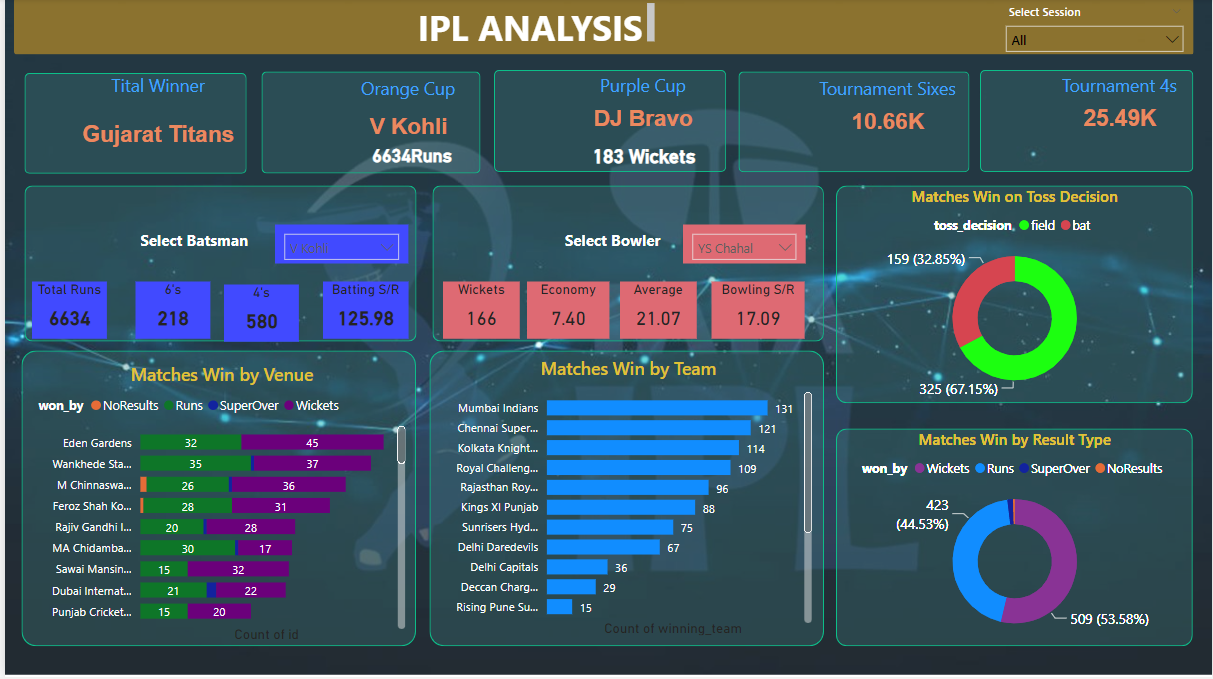

The page's visual inventory and layout, read from the dashboard file:
{"tool":"powerbi","page":{"name":"Page 1","canvas":[1280,720],"ordinal":0},"visuals":[{"type":"shape","box":[20.7,198.7,415,165],"z":0},{"type":"textbox","box":[138.3,240,133.5,41.3],"z":1000},{"type":"shape","box":[271.8,77.9,232.1,108.1],"z":2000},{"type":"shape","box":[20.7,79.5,235.2,106.5],"z":3000},{"type":"shape","box":[9.5,0,1250,60],"z":4000},{"type":"textbox","box":[432.8,0,260.8,54.8],"z":5000},{"type":"card","title":"Tital Winner","fields":{"Values":["ipl_matches_2008_2022.Title Winner"]},"box":[68.3,79.5,187.5,104.9],"z":6000},{"type":"slicer","fields":{"Values":["Calendar Table.Year"]},"box":[1050.6,1.6,208.2,58.8],"z":7000},{"type":"shape","box":[517.8,75.6,245.7,107.7],"z":8000},{"type":"shape","box":[777.2,77.9,244.8,106.5],"z":9000},{"type":"shape","box":[1033.1,76.3,225.7,108.1],"z":10000},{"type":"card","title":"Orange Cup","fields":{"Values":["ipl_ball_by_ball_2008_2022.batter"]},"box":[349.6,83.2,155,83.2],"z":11000},{"type":"card","title":"Purple Cup","fields":{"Values":["ipl_ball_by_ball_2008_2022.bowler"]},"box":[587.7,79.4,175.7,71.8],"z":12000},{"type":"card","title":"Orange Cup","fields":{"Values":["ipl_ball_by_ball_2008_2022.Batter Runs"]},"box":[374.2,145.5,115.3,41.6],"z":13000},{"type":"card","title":"Tital Winner","fields":{"Values":["ipl_ball_by_ball_2008_2022.Bowler Wickets"]},"box":[587.7,145.5,177.6,41.6],"z":14000},{"type":"card","title":"Tournament Sixes","fields":{"Values":["ipl_ball_by_ball_2008_2022.batsman_run"]},"box":[846.6,83.2,175.7,71.8],"z":15000},{"type":"card","title":"Tournament 4s","fields":{"Values":["ipl_ball_by_ball_2008_2022.batsman_run"]},"box":[1103,79.5,155.8,71.5],"z":16000},{"type":"shape","box":[453,198.7,414.8,165.3],"z":17000},{"type":"slicer","fields":{"Values":["ipl_ball_by_ball_2008_2022.batter"]},"box":[286.1,240,141.5,41.3],"z":18000},{"type":"card","title":"Total Runs","fields":{"Values":["ipl_ball_by_ball_2008_2022.batsman_run"]},"box":[28.6,300.4,79.5,60.4],"z":19000},{"type":"card","title":"6''s","fields":{"Values":["ipl_ball_by_ball_2008_2022.batsman_run"]},"box":[138.3,300.4,79.5,60.4],"z":20000},{"type":"card","title":"4''s","fields":{"Values":["ipl_ball_by_ball_2008_2022.batsman_run"]},"box":[232.1,303.6,79.5,60.4],"z":21000},{"type":"card","title":"Batting S/R","fields":{"Values":["ipl_ball_by_ball_2008_2022.Strike Rate for Batsman"]},"box":[337,300.4,90.6,60.4],"z":22000},{"type":"slicer","fields":{"Values":["ipl_ball_by_ball_2008_2022.bowler"]},"box":[718.4,240,130.3,41.3],"z":23000},{"type":"card","title":"Wickets","fields":{"Values":["ipl_ball_by_ball_2008_2022.iswicket_delivery"]},"box":[464.1,300.4,81.1,60.4],"z":24000},{"type":"card","title":"Economy","fields":{"Values":["ipl_ball_by_ball_2008_2022.Economy"]},"box":[553.1,300.4,87.4,60.4],"z":25000},{"type":"card","title":"Average","fields":{"Values":["ipl_ball_by_ball_2008_2022.Average by Bowler"]},"box":[651.7,300.4,81.1,60.4],"z":26000},{"type":"card","title":"Bowling S/R","fields":{"Values":["ipl_ball_by_ball_2008_2022.Bowling SR"]},"box":[748.6,300.4,98.5,60.4],"z":27000},{"type":"textbox","box":[588.1,240,130.3,41.3],"z":28000},{"type":"shape","box":[880.5,198.7,378.3,230.5],"z":29000},{"type":"donutChart","title":"Matches Win on Toss Decision","fields":{"Y":["ipl_matches_2008_2022.Matches Win on Toss Decision"],"Category":["ipl_matches_2008_2022.toss_decision"]},"box":[880.5,198.7,378.3,230.5],"z":30000},{"type":"donutChart","title":"Matches Win on Toss Decision","fields":{"Y":["ipl_matches_2008_2022.Matches Win on Toss Decision"],"Category":["ipl_matches_2008_2022.toss_decision"]},"box":[880.5,198.7,378.3,230.5],"z":31000},{"type":"shape","box":[880.5,456.2,378.3,230.5],"z":32000},{"type":"donutChart","title":"Matches Win by Result Type","fields":{"Y":["ipl_matches_2008_2022.id"],"Category":["ipl_matches_2008_2022.won_by"]},"box":[880.5,456.2,378.3,230.5],"z":33000},{"type":"donutChart","title":"Matches Win by Result Type","fields":{"Y":["ipl_matches_2008_2022.id"],"Category":["ipl_matches_2008_2022.won_by"]},"box":[880.5,456.2,378.3,230.5],"z":34000},{"type":"shape","box":[17.5,373.5,418,313.1],"z":35000},{"type":"barChart","title":"Matches Win by Venue","fields":{"Category":["ipl_matches_2008_2022.venue"],"Y":["ipl_matches_2008_2022.id"],"Series":["ipl_matches_2008_2022.won_by"]},"box":[30.2,386.2,398.9,300.4],"z":36000},{"type":"shape","box":[449.8,373.5,418,313.1],"z":37000},{"type":"barChart","title":"Matches Win by Team","fields":{"Category":["ipl_matches_2008_2022.winning_team"],"Y":["ipl_matches_2008_2022.winning_team"]},"box":[460.9,379.9,398.9,300.4],"z":38000}]}

Visuals, with their boxes in screenshot pixels (x1, y1, x2, y2), scaled from the page's 1280x720 canvas onto the 1213x679 screenshot:
shape: (20, 187, 413, 343)
textbox: (131, 226, 258, 265)
shape: (258, 73, 478, 175)
shape: (20, 75, 243, 175)
shape: (9, 0, 1194, 57)
textbox: (410, 0, 657, 52)
"Tital Winner" card: (65, 75, 242, 174)
slicer - Calendar Table.Year: (996, 2, 1193, 57)
shape: (491, 71, 724, 173)
shape: (737, 73, 969, 174)
shape: (979, 72, 1193, 174)
"Orange Cup" card: (331, 78, 478, 157)
"Purple Cup" card: (557, 75, 723, 143)
"Orange Cup" card: (355, 137, 464, 176)
"Tital Winner" card: (557, 137, 725, 176)
"Tournament Sixes" card: (802, 78, 969, 146)
"Tournament 4s" card: (1045, 75, 1193, 142)
shape: (429, 187, 822, 343)
slicer - ipl_ball_by_ball_2008_2022.batter: (271, 226, 405, 265)
"Total Runs" card: (27, 283, 102, 340)
"6''s" card: (131, 283, 206, 340)
"4''s" card: (220, 286, 295, 343)
"Batting S/R" card: (319, 283, 405, 340)
slicer - ipl_ball_by_ball_2008_2022.bowler: (681, 226, 804, 265)
"Wickets" card: (440, 283, 517, 340)
"Economy" card: (524, 283, 607, 340)
"Average" card: (618, 283, 694, 340)
"Bowling S/R" card: (709, 283, 803, 340)
textbox: (557, 226, 681, 265)
shape: (834, 187, 1193, 405)
"Matches Win on Toss Decision" donutChart: (834, 187, 1193, 405)
"Matches Win on Toss Decision" donutChart: (834, 187, 1193, 405)
shape: (834, 430, 1193, 648)
"Matches Win by Result Type" donutChart: (834, 430, 1193, 648)
"Matches Win by Result Type" donutChart: (834, 430, 1193, 648)
shape: (17, 352, 413, 648)
"Matches Win by Venue" barChart: (29, 364, 407, 648)
shape: (426, 352, 822, 648)
"Matches Win by Team" barChart: (437, 358, 815, 642)
